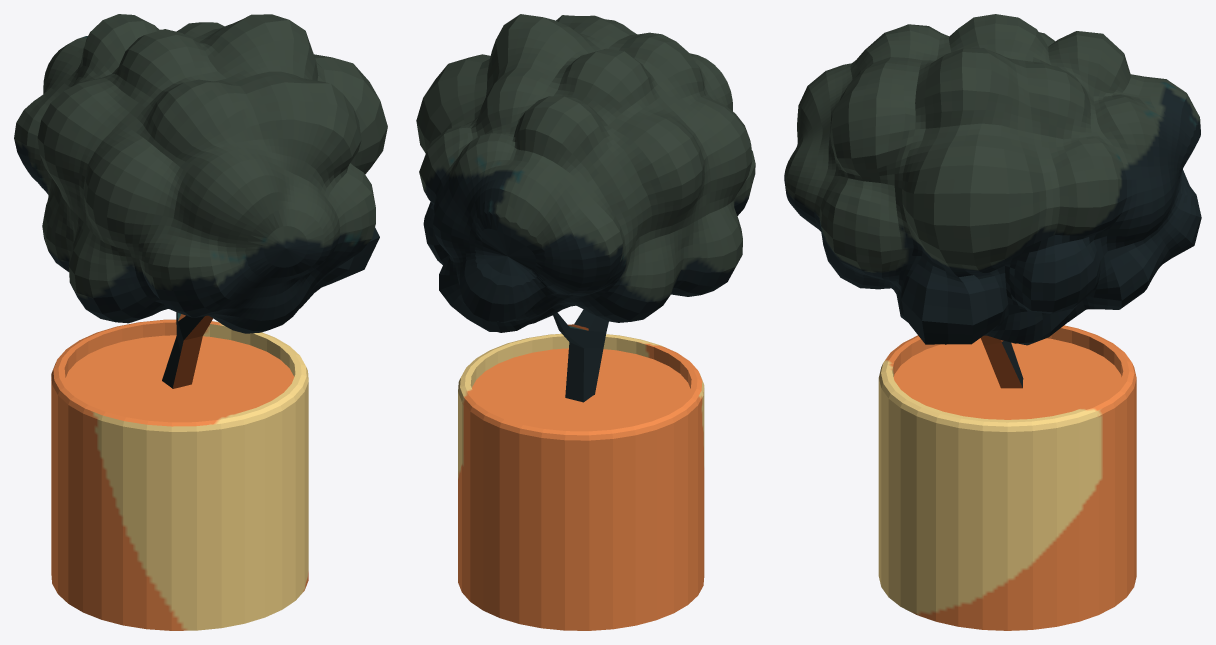
Rendered from tree.fbx.
3 renders of one model, left to right at view 1: azimuth 30°, elevation 25°; view 2: azimuth 150°, elevation 25°; view 3: azimuth 270°, elevation 25°, orthographic. The views are drawn at different scales.
Parts seen in each view (by area): view 1: Sphere, tree, Cube.001; view 2: Sphere, tree, Cube.001; view 3: Sphere, tree, Cube.001.
Boxes of the visible parts, bbox=[...] form: Sphere: bbox=[14, 14, 387, 333]; tree: bbox=[51, 319, 308, 630]; Cube.001: bbox=[162, 312, 212, 388]; Sphere: bbox=[416, 14, 755, 332]; tree: bbox=[458, 333, 704, 630]; Cube.001: bbox=[553, 309, 608, 402]; Sphere: bbox=[784, 14, 1201, 345]; tree: bbox=[878, 325, 1136, 630]; Cube.001: bbox=[981, 335, 1023, 388].
Size of the model in its own units: 112 by 189 by 129.
